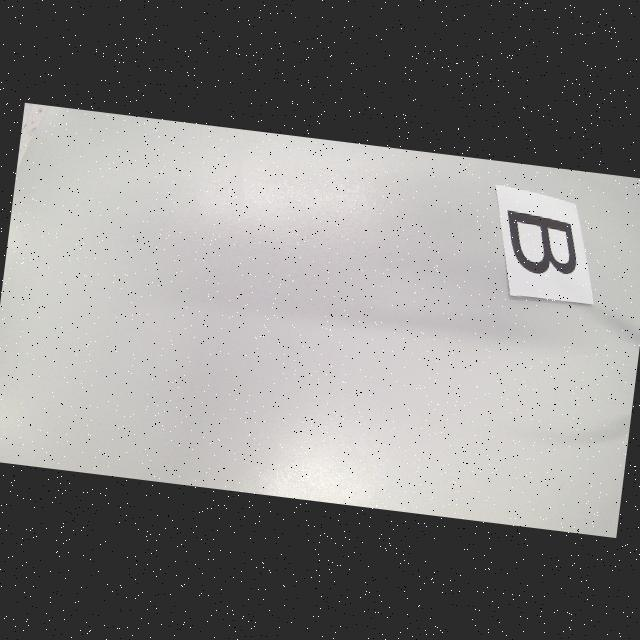FAKE: (501, 209, 582, 278)
